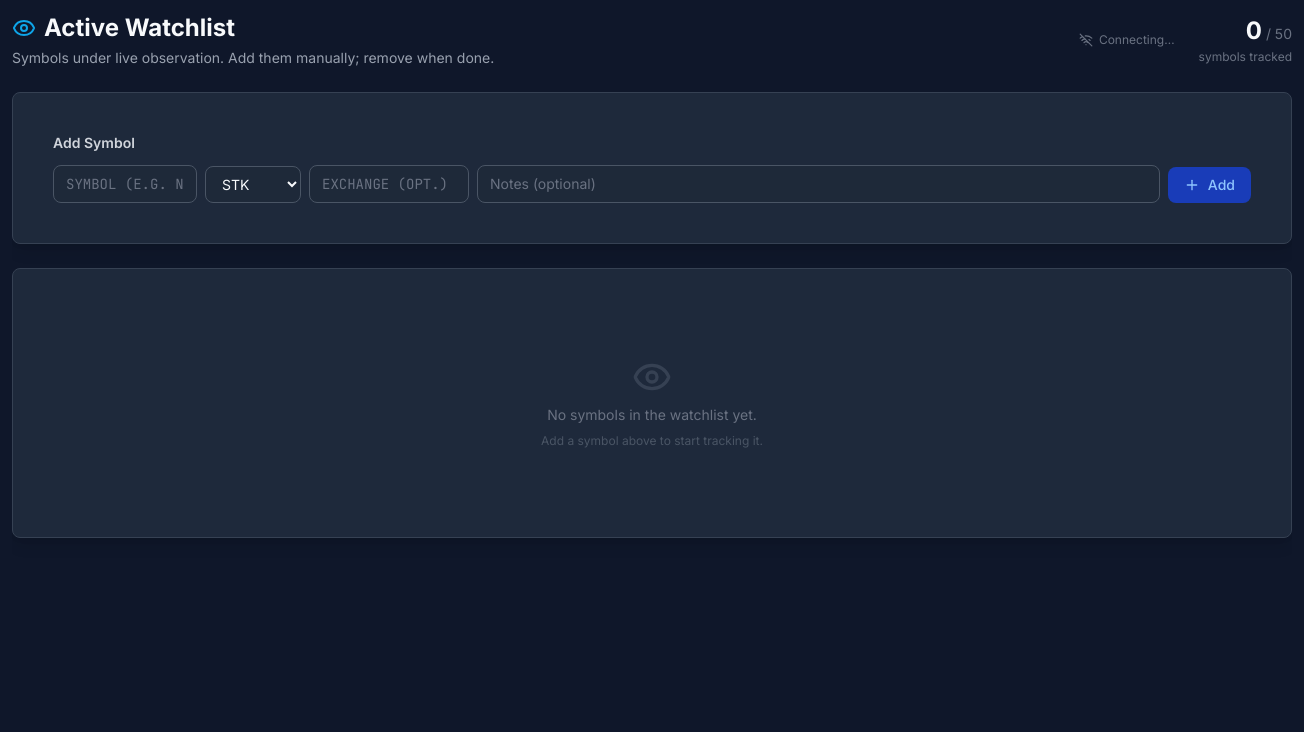
Test case: ActiveWatchlist › shows API error message when add mutation fails
Type "AAPL" into the field with placeholder "Symbol (e.g. NVDA)" at (125, 184), box [53, 165, 197, 203]
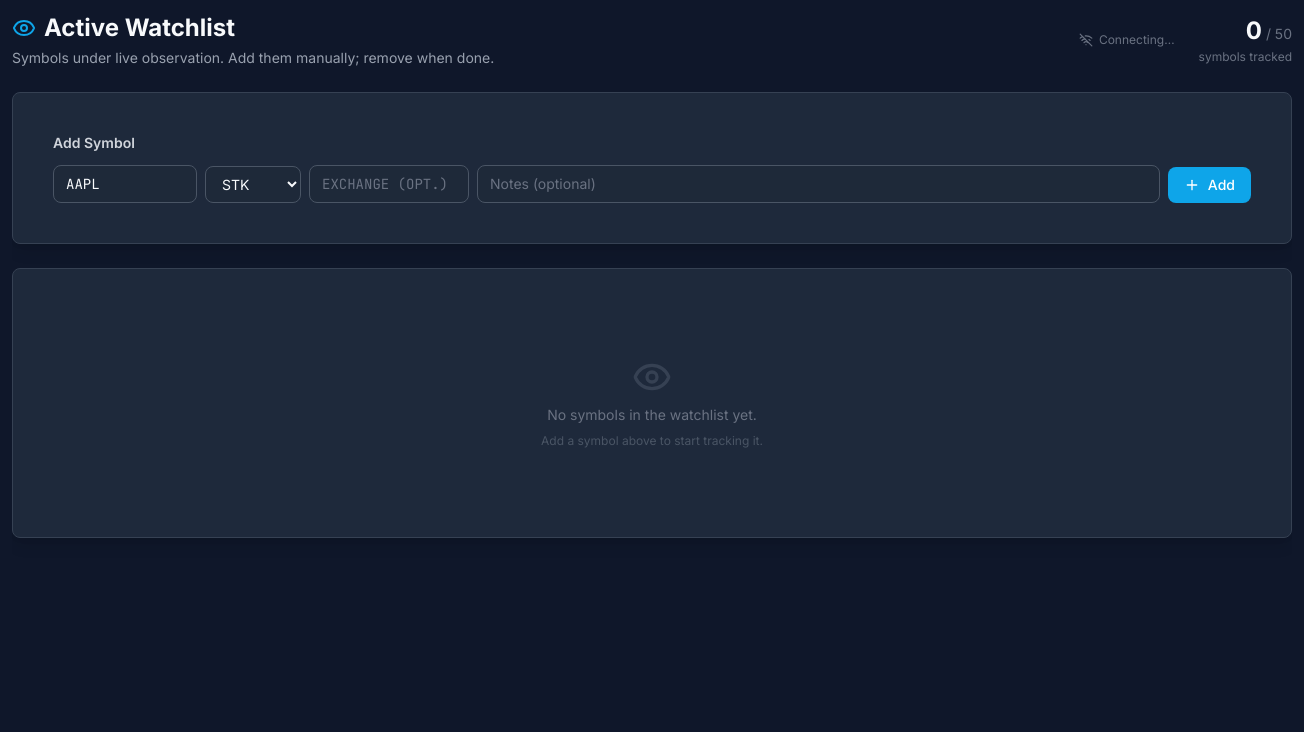
Click the button "Add" at (1209, 185), box [1168, 167, 1251, 203]
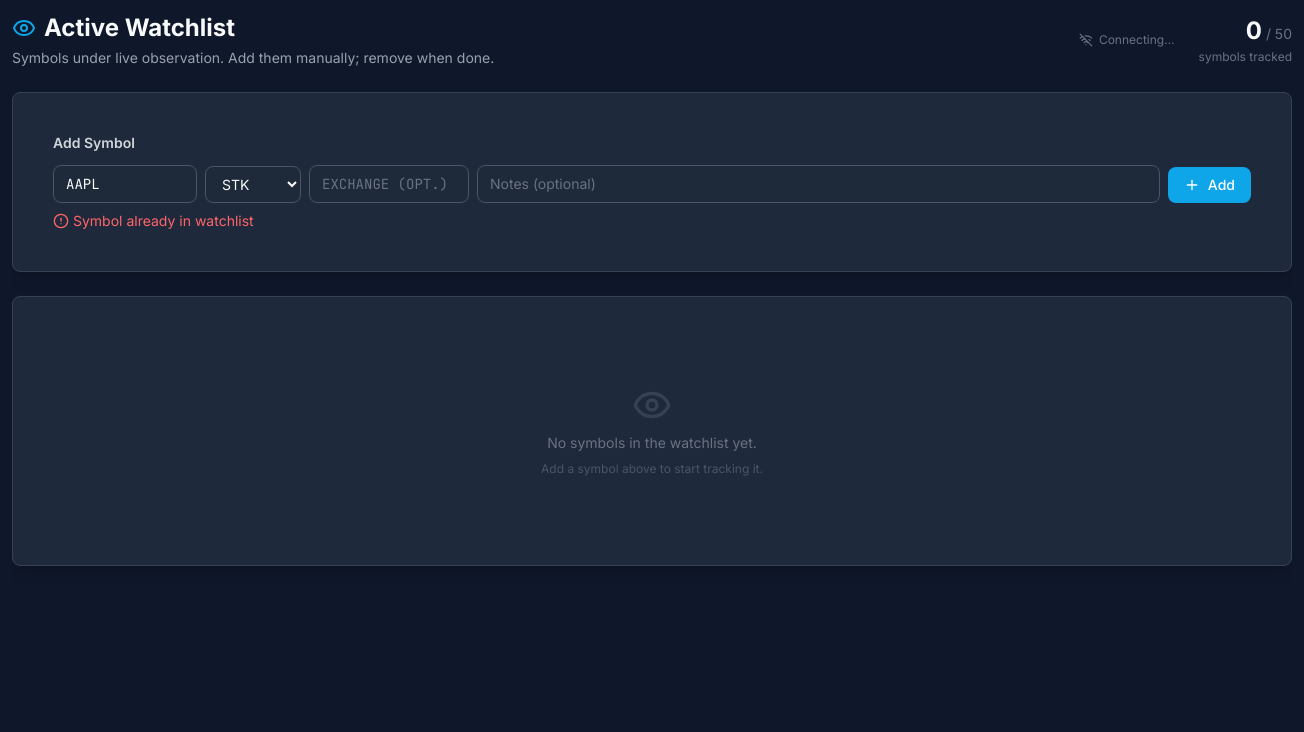
Now the text "Symbol already in watchlist" is shown, box [53, 212, 254, 229]
